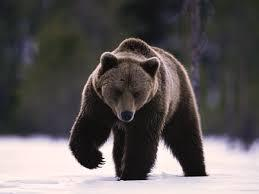bear: (66, 27, 221, 183)
